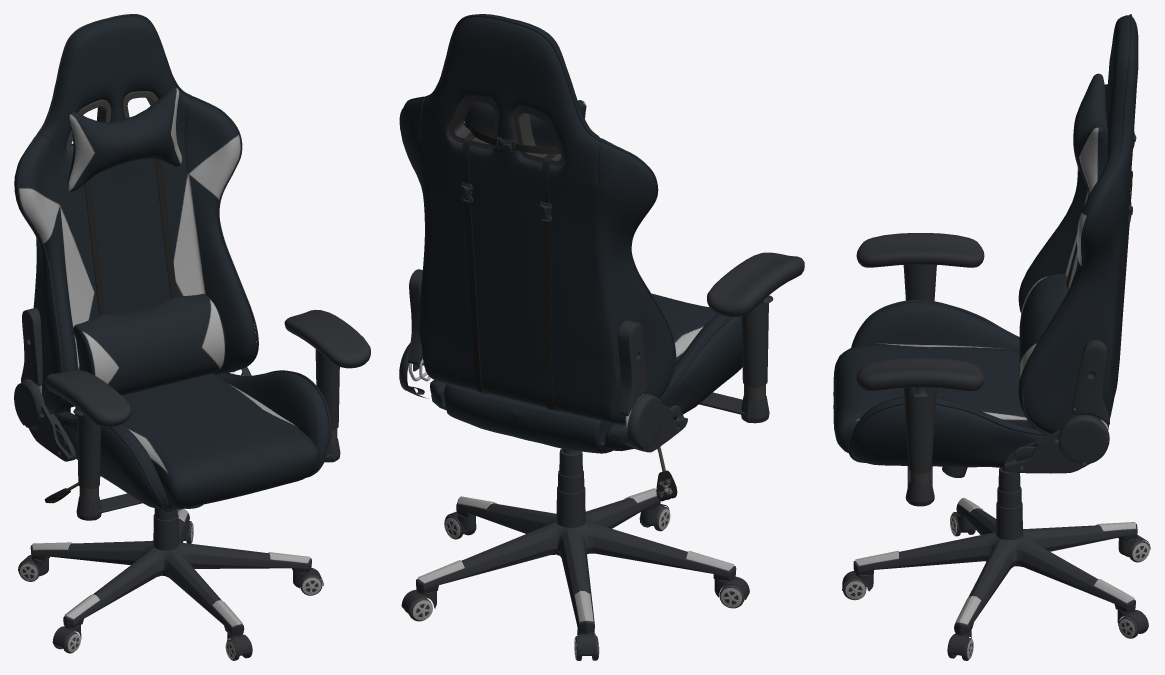
File: office_chair_B07HJFY5KD.glb
3 renders of one model, left to right at view 1: azimuth 30°, elevation 25°; view 2: azimuth 150°, elevation 25°; view 3: azimuth 270°, elevation 25°, orthographic. The views are drawn at different scales.
Parts seen in each view (by area): view 1: Root; view 2: Root; view 3: Root.
Boxes of the visible parts, <box> form: Root: <box>14,14,370,660</box>; Root: <box>399,14,804,660</box>; Root: <box>833,14,1150,660</box>.
Size of the model in its own units: 0.6963 by 1.29 by 0.6507.
1 material, 1 textured.
